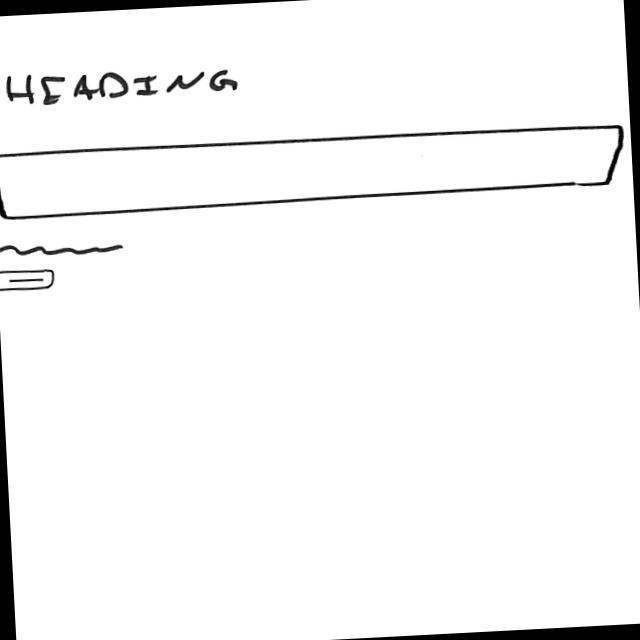container: (1, 120, 630, 224)
icon-button: (1, 268, 59, 295)
label: (1, 60, 244, 113)
text: (1, 240, 126, 264)
